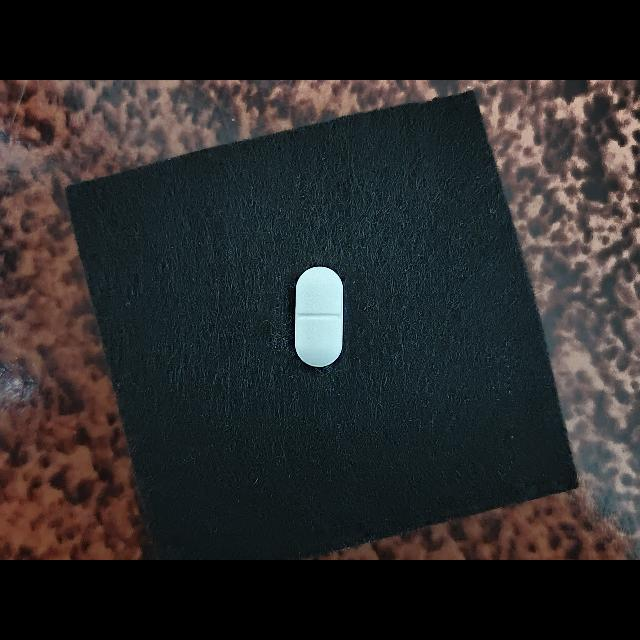Intact Pill: (295, 266, 343, 367)
